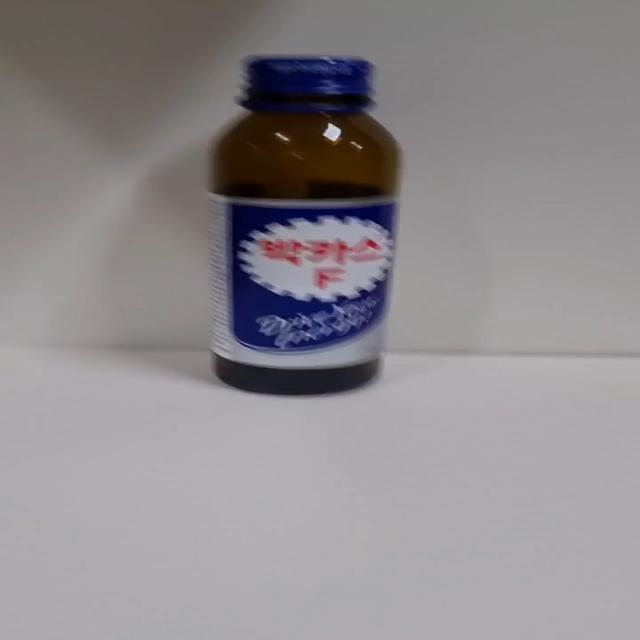Glass: (206, 54, 404, 399)
